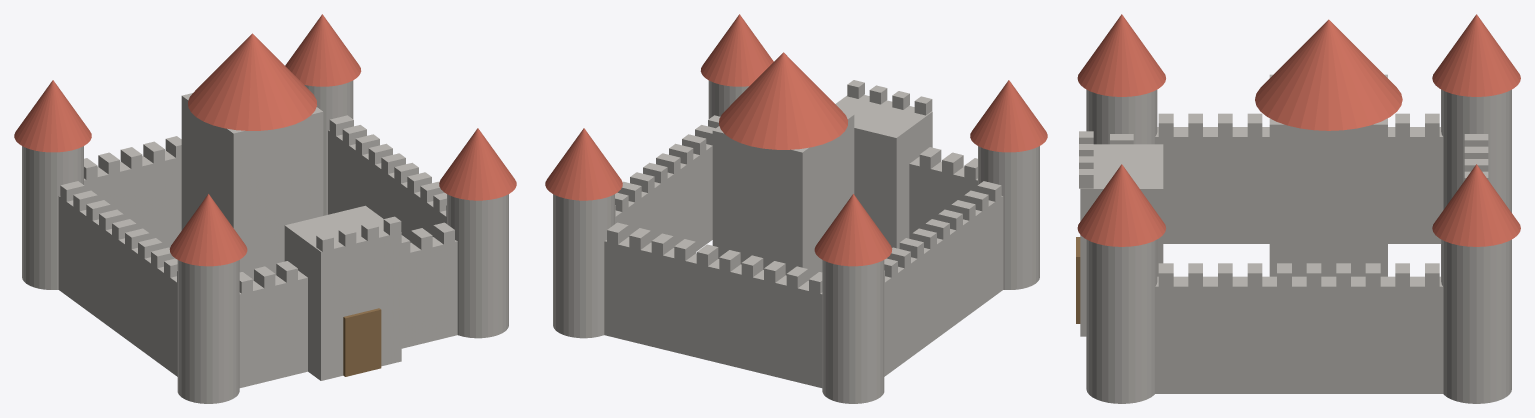
The model's file is castle.glb.
3 views of the same model, side by side, from view 1: azimuth 30°, elevation 25°; view 2: azimuth 150°, elevation 25°; view 3: azimuth 270°, elevation 25° (orthographic). The views are drawn at different scales.
Visible parts, largest first — view 1: Keep, Gatehouse, Wall_Front, Wall_Left, Tower_FL, Keep_Roof, Tower_FR, Tower_BL, Wall_Right, Wall_Back, Roof_BL, Roof_FR (+9 smaller); view 2: Wall_Back, Keep, Wall_Left, Tower_BL, Gatehouse, Keep_Roof, Tower_BR, Tower_FL, Wall_Right, Merlons_Back, Roof_BR, Roof_FL (+8 smaller); view 3: Wall_Right, Wall_Left, Keep, Tower_FR, Tower_BR, Keep_Roof, Tower_BL, Gatehouse, Roof_BR, Roof_FR, Roof_FL, Roof_BL (+6 smaller).
Boxes of the visible parts, x1,y1,x2,y2 form: Keep: (181, 93, 323, 280); Gatehouse: (284, 205, 401, 380); Wall_Front: (239, 237, 457, 387); Wall_Left: (58, 196, 177, 376); Tower_FL: (177, 260, 239, 403); Keep_Roof: (188, 33, 317, 130); Tower_FR: (447, 194, 508, 338); Tower_BL: (22, 146, 83, 289); Wall_Right: (328, 130, 446, 242); Wall_Back: (84, 150, 181, 248); Roof_BL: (14, 80, 91, 152); Roof_FR: (439, 128, 516, 200); Wall_Back: (604, 237, 822, 387); Keep: (712, 112, 854, 280); Wall_Left: (884, 196, 1003, 376); Tower_BL: (822, 260, 884, 403); Gatehouse: (835, 95, 932, 248); Keep_Roof: (719, 52, 847, 149); Tower_BR: (553, 194, 614, 338); Tower_FL: (978, 146, 1039, 289); Wall_Right: (615, 144, 712, 251); Merlons_Back: (607, 222, 822, 293); Roof_BR: (545, 128, 622, 200); Roof_FL: (970, 80, 1047, 152); Wall_Right: (1155, 276, 1443, 393); Wall_Left: (1155, 127, 1443, 243); Keep: (1269, 74, 1387, 276); Tower_FR: (1086, 239, 1157, 403); Tower_BR: (1441, 239, 1511, 403); Keep_Roof: (1255, 19, 1402, 130); Tower_BL: (1441, 89, 1511, 212); Gatehouse: (1080, 144, 1163, 336); Roof_BR: (1432, 164, 1520, 246); Roof_FR: (1077, 164, 1165, 246); Roof_FL: (1077, 14, 1165, 96); Roof_BL: (1432, 14, 1520, 96).
Size of the model in its own units: 15 by 11 by 15.05.
